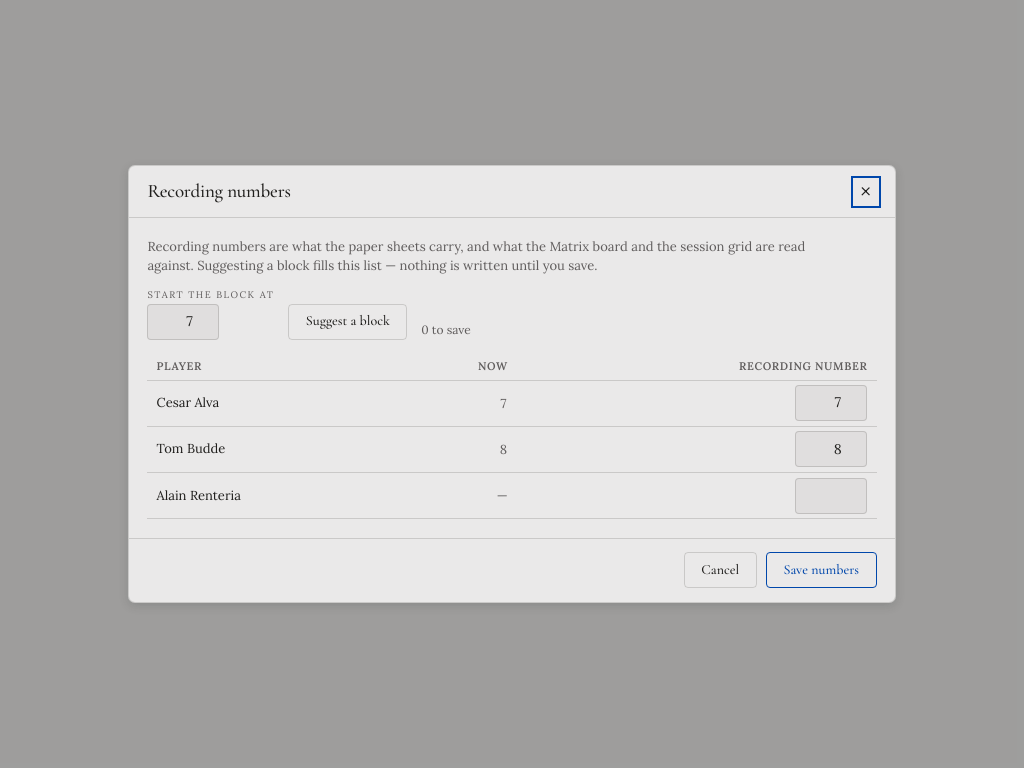
Test: refusing before it writes › REFUSES a duplicate without writing anything
Type "7" into the number field in the row of "Alain Renteria" at (831,496), box [795, 478, 867, 514]
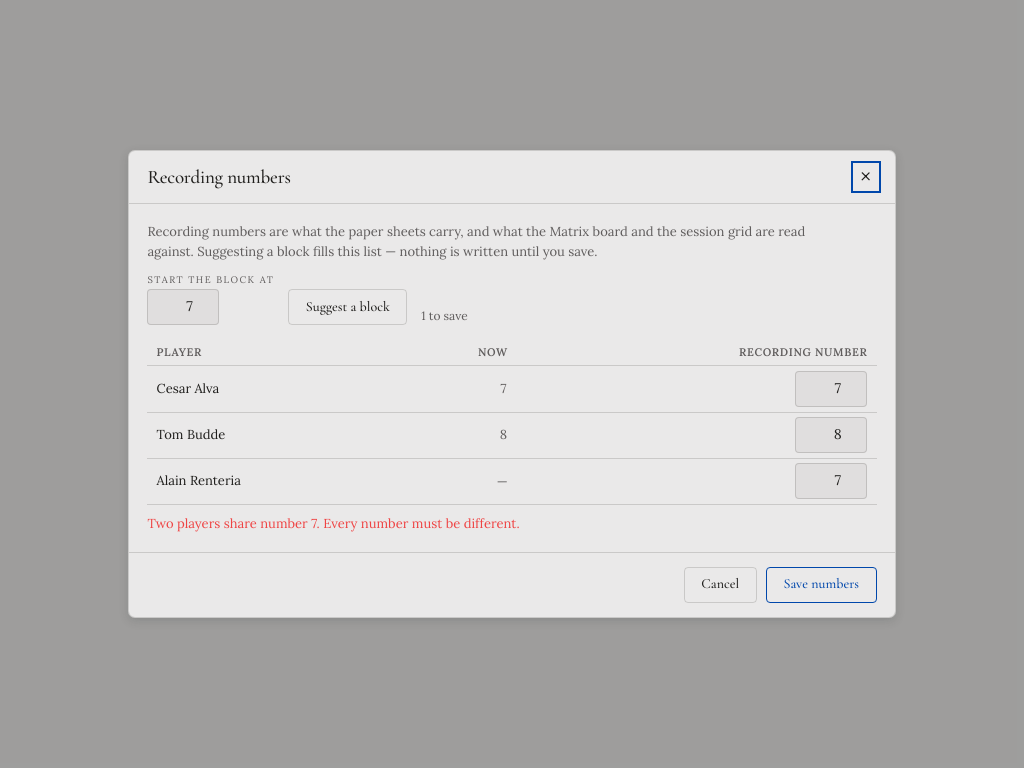
Click the button "Save numbers" at (821,585), box [766, 567, 877, 603]
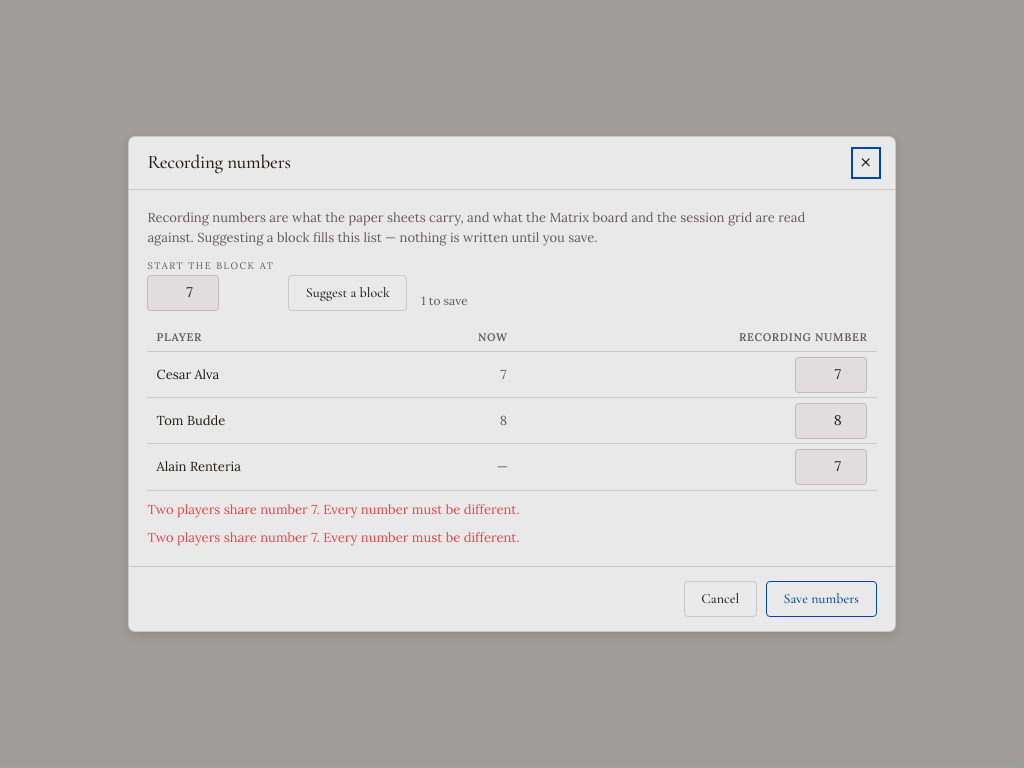
Now the message "Two players share number 7. Every number must be different." is shown, box [147, 529, 520, 546]
